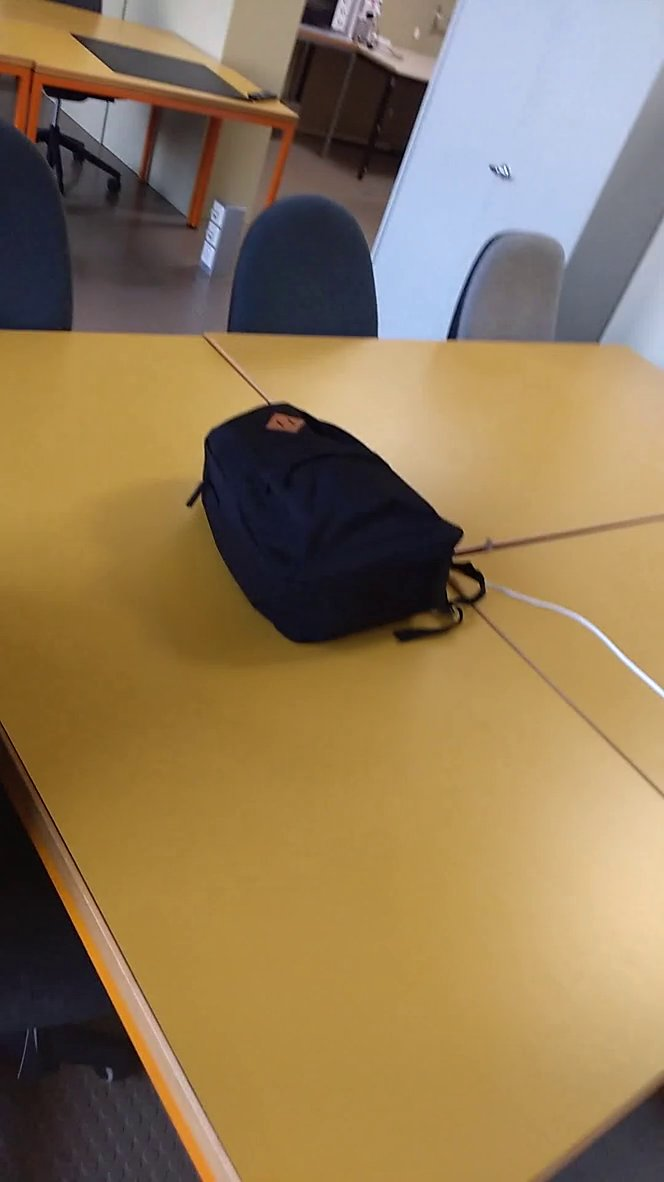bag: (178, 398, 496, 667)
chair: (221, 189, 390, 356), (434, 225, 588, 359)
